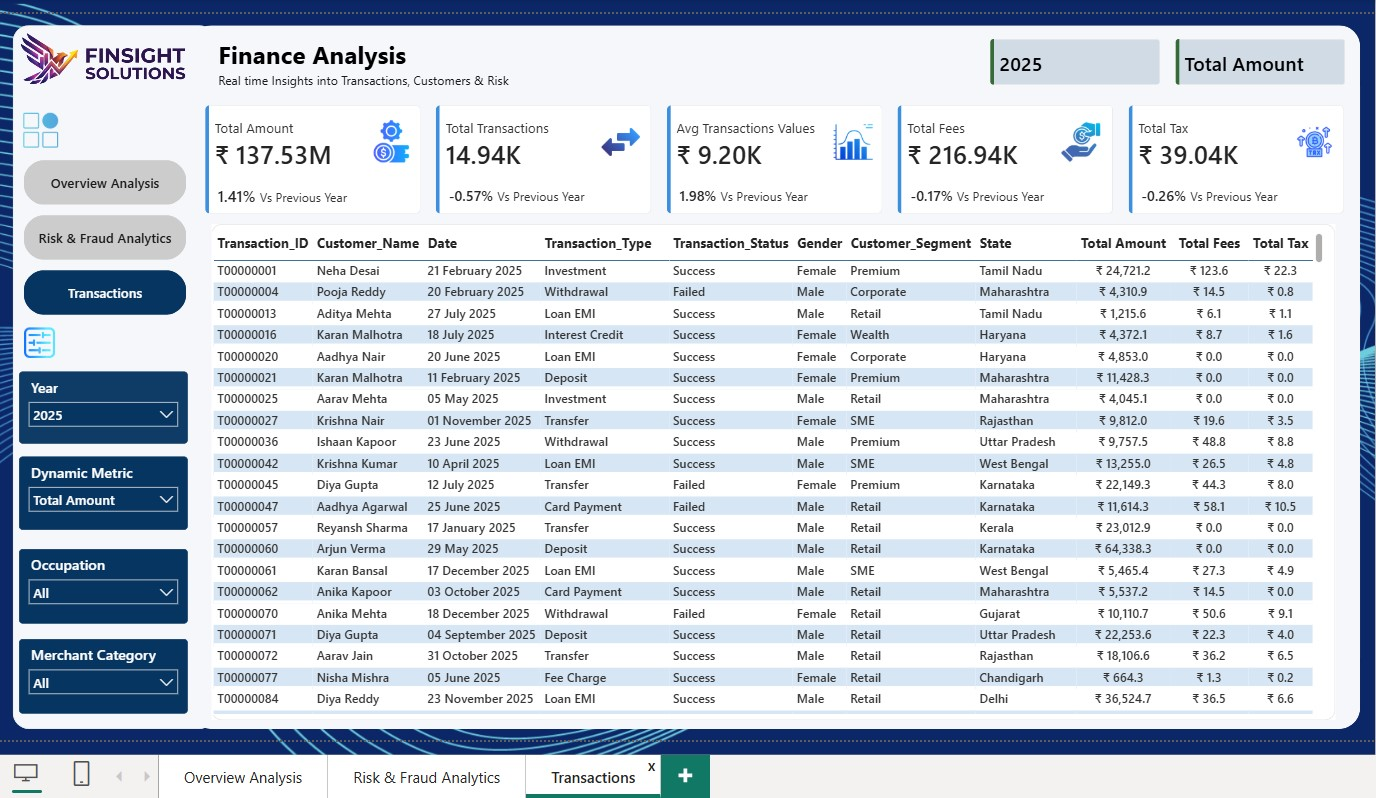

The dashboard page shown, as its layout file describes it:
{"tool":"powerbi","page":{"name":"Transactions","canvas":[1800,950],"ordinal":1},"visuals":[{"type":"shape","box":[11.4,14.7,279.6,920.6],"z":0},{"type":"shape","box":[250.2,14.7,1530.5,920.6],"z":1000},{"type":"image","box":[27.8,27.8,210.9,85],"z":2000},{"type":"cardVisual","fields":{"Data":["finance_transactions.Dashboard Title"]},"box":[250.2,14.7,421.9,85],"z":3000},{"type":"cardVisual","fields":{"Data":["All Measures.Total Amount","All Measures.Total Transactions","All Measures.Avg Transactions Values","All Measures.Total Fees","All Measures.Total Tax"]},"box":[263.2,112.3,1505.3,154.4],"z":4000},{"type":"image","box":[486.1,138.9,55.6,55.6],"z":5000},{"type":"image","box":[786.5,140.6,53.8,53.8],"z":6000},{"type":"image","box":[1090.3,140.6,53.8,53.8],"z":7000},{"type":"image","box":[1388.9,140.6,53.8,53.8],"z":8000},{"type":"image","box":[1694.4,140.6,53.8,53.8],"z":9000},{"type":"shape","box":[277.8,274.3,1489.6,650],"z":10000},{"type":"cardVisual","fields":{"Data":["All Measures.Selected Dynammic Year","All Measures.Selected Dynamic Measures"]},"box":[1291.2,28.1,475.4,70.2],"z":11000},{"type":"tableEx","fields":{"Values":["finance_transactions.transaction_id","customers.customer_name","Calander Table.Date","finance_transactions.transaction_type","finance_transactions.transaction_status","customers.gender","customers.customer_segment","customers.state","All Measures.Total Amount","All Measures.Total Fees","All Measures.Total Tax"]},"box":[277.8,284.7,1489.6,631.9],"z":12000},{"type":"slicer","fields":{"Values":["Calander Table.Year"]},"box":[19.9,467.1,220.5,94.5],"z":13000},{"type":"slicer","fields":{"Values":["Parameter.Parameter"]},"box":[19.9,579.1,220.5,96.2],"z":14000},{"type":"slicer","fields":{"Values":["customers.occupation"]},"box":[19.9,699.8,220.5,98],"z":15000},{"type":"slicer","fields":{"Values":["finance_transactions.merchant_category"]},"box":[19.9,817.1,220.5,98],"z":16000},{"type":"image","box":[17.5,168,54.2,45.5],"z":17000},{"type":"image","box":[14,407.7,54.2,45.5],"z":18000},{"type":"pageNavigator","box":[26,223.5,213.1,169.8],"z":19000}]}

Visuals, with their boxes on the page's 1800x950 design canvas (x1, y1, x2, y2). These are canvas units, not pixel positions in the 1376x798 screenshot, which may show the page scaled, cropped or inside an application window:
shape: box=[11, 15, 291, 935]
shape: box=[250, 15, 1781, 935]
image: box=[28, 28, 239, 113]
cardVisual - finance_transactions.Dashboard Title: box=[250, 15, 672, 100]
cardVisual - All Measures.Total Amount x All Measures.Total Transactions: box=[263, 112, 1768, 267]
image: box=[486, 139, 542, 194]
image: box=[786, 141, 840, 194]
image: box=[1090, 141, 1144, 194]
image: box=[1389, 141, 1443, 194]
image: box=[1694, 141, 1748, 194]
shape: box=[278, 274, 1767, 924]
cardVisual - All Measures.Selected Dynammic Year x All Measures.Selected Dynamic Measures: box=[1291, 28, 1767, 98]
tableEx - finance_transactions.transaction_id x customers.customer_name: box=[278, 285, 1767, 917]
slicer - Calander Table.Year: box=[20, 467, 240, 562]
slicer - Parameter.Parameter: box=[20, 579, 240, 675]
slicer - customers.occupation: box=[20, 700, 240, 798]
slicer - finance_transactions.merchant_category: box=[20, 817, 240, 915]
image: box=[18, 168, 72, 214]
image: box=[14, 408, 68, 453]
pageNavigator: box=[26, 224, 239, 393]
